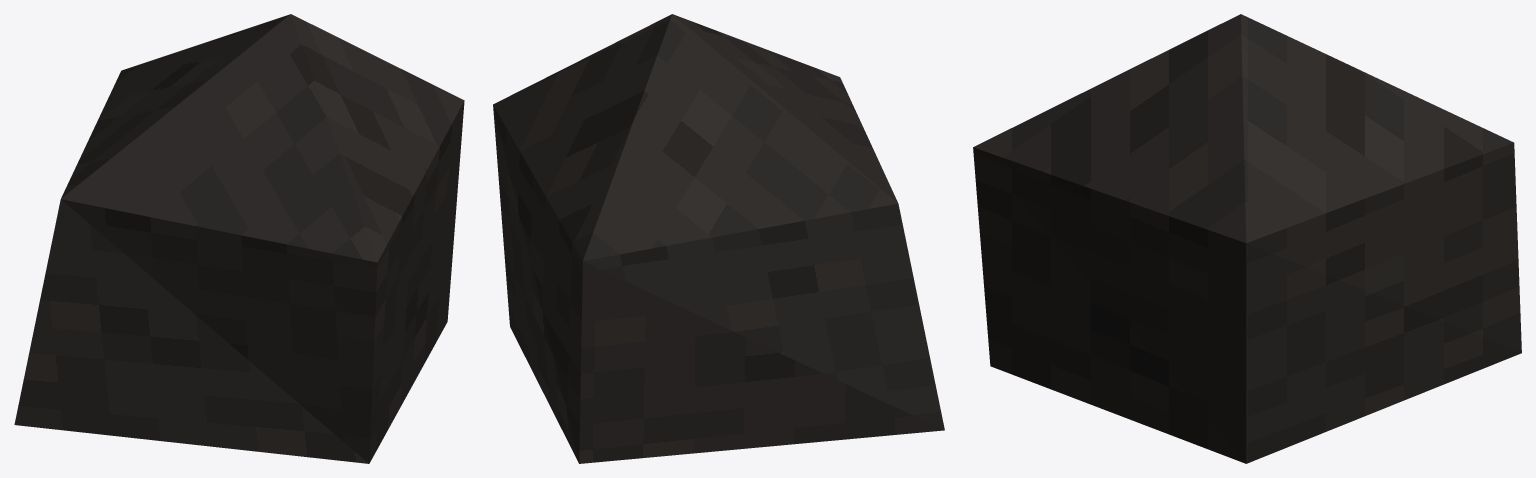
The model's file is carbon.glb.
3 renders of one model, left to right at view 1: azimuth 30°, elevation 25°; view 2: azimuth 150°, elevation 25°; view 3: azimuth 270°, elevation 25°, orthographic. The views are drawn at different scales.
Parts seen in each view (by area): view 1: monton; view 2: monton; view 3: monton.
Part boxes in pixels (left/top/right/bottom): monton: left=14, top=14, right=464, bottom=463; monton: left=493, top=14, right=944, bottom=463; monton: left=973, top=14, right=1521, bottom=463.
Size of the model in its own units: 0.4 by 0.3 by 0.4.
Materials: 1 (1 with a texture image).
